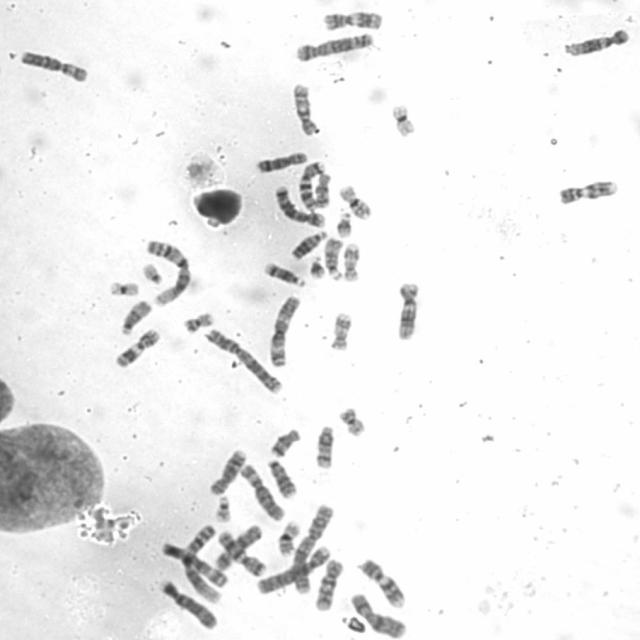A1: (180, 520, 223, 605), (144, 237, 194, 308)
A2: (203, 325, 284, 395), (289, 500, 335, 596)
A3: (158, 538, 230, 589), (265, 292, 301, 368)
B4: (254, 542, 334, 596), (155, 575, 221, 632)
B5: (293, 29, 374, 62), (270, 183, 326, 228)
C10: (310, 555, 346, 613), (289, 80, 320, 137)
C11: (110, 324, 163, 368), (320, 8, 384, 32)
C12: (563, 24, 633, 56), (393, 278, 421, 341)
C6: (236, 459, 286, 522), (18, 46, 90, 83)
C7: (215, 525, 268, 576), (294, 155, 328, 212)
C8: (207, 446, 248, 497), (254, 148, 308, 174)
C9: (355, 554, 407, 608), (555, 176, 618, 206)
D13: (264, 456, 298, 500), (288, 228, 329, 261)
D14: (260, 258, 306, 288), (312, 421, 336, 469)
D15: (117, 298, 152, 336), (322, 235, 344, 282)
E16: (336, 180, 374, 220), (274, 517, 302, 557)
E17: (328, 308, 353, 352), (342, 239, 362, 282)
E18: (267, 426, 303, 458), (312, 169, 333, 208)
F19: (387, 100, 418, 138), (106, 276, 142, 297)
F20: (337, 404, 368, 438), (181, 309, 216, 334)
G21: (332, 206, 354, 238), (306, 253, 326, 279)
G22: (139, 259, 164, 286), (212, 492, 232, 523)
X: (347, 589, 409, 639), (212, 520, 265, 573)
